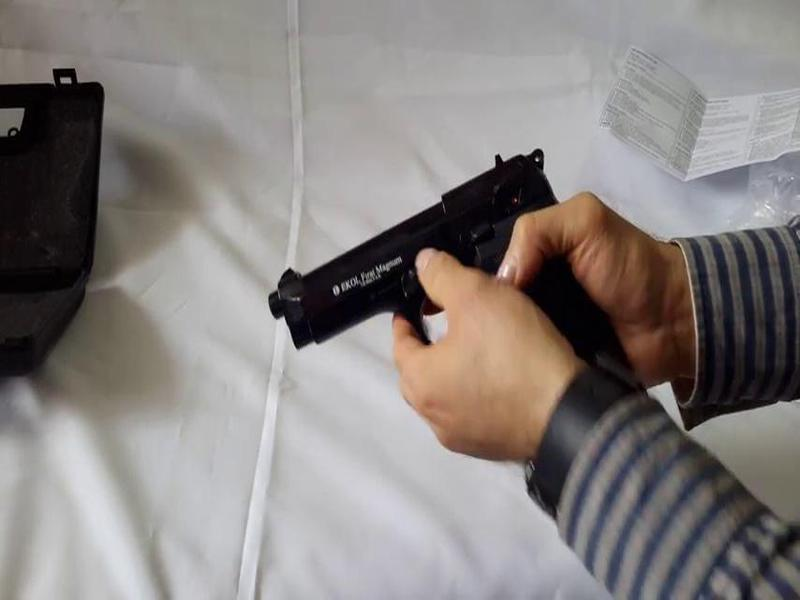Pistola: (258, 133, 588, 385)
